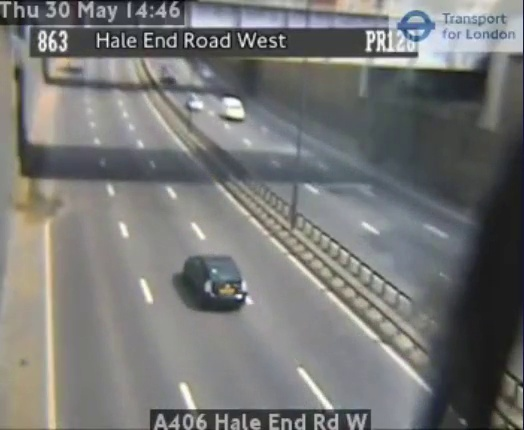car: (186, 256, 245, 307)
